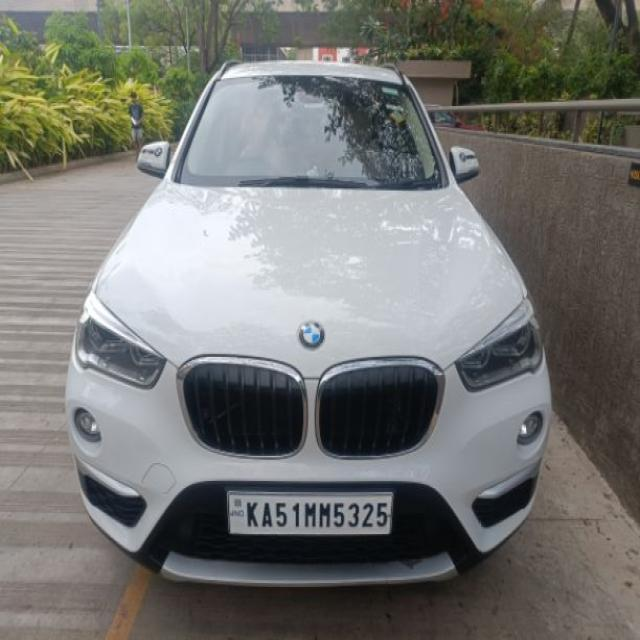license_plate: (225, 488, 393, 537)
